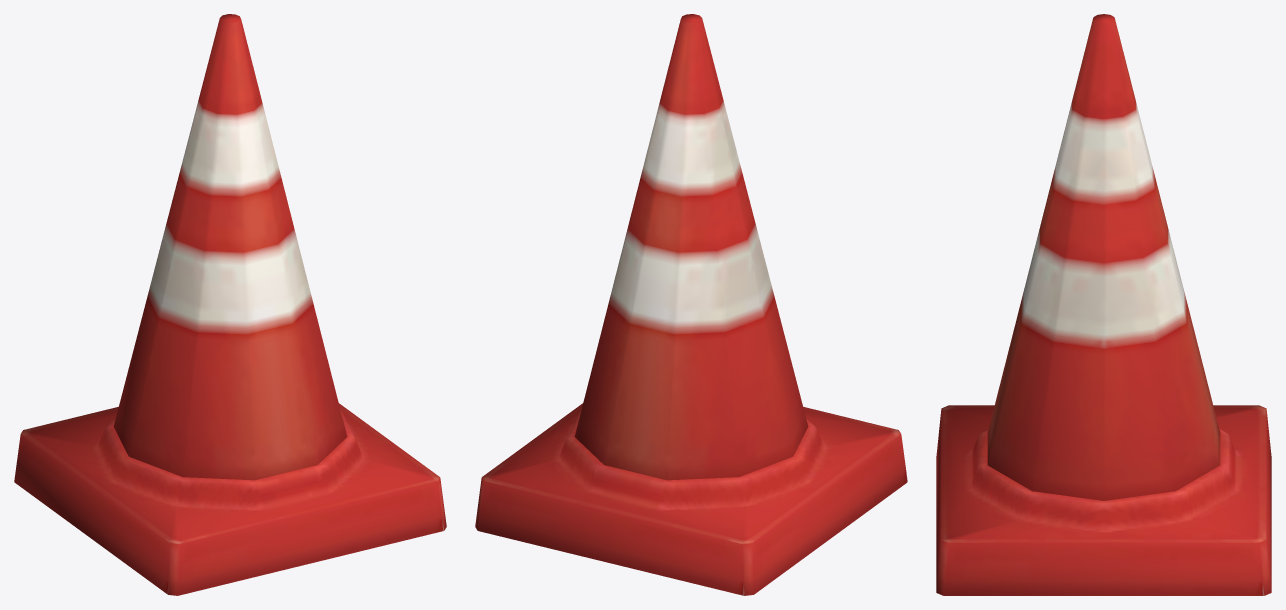
Rendered from colorcone.obj.
3 views of the same model, side by side, from view 1: azimuth 30°, elevation 25°; view 2: azimuth 150°, elevation 25°; view 3: azimuth 270°, elevation 25° (orthographic). The views are drawn at different scales.
Visible parts, largest first — view 1: colorcone; view 2: colorcone; view 3: colorcone.
Part boxes in pixels (box(x1,y1,x2,y2)): colorcone: box(14, 14, 446, 595); colorcone: box(475, 14, 907, 595); colorcone: box(936, 14, 1271, 595).
Bounding box in the file's own units: 0.6 × 1 × 0.6.
Materials: 1 (1 with a texture image).
